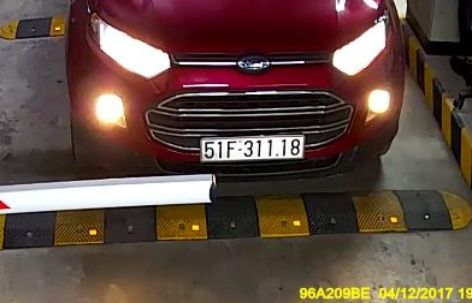plate: (196, 134, 306, 162)
